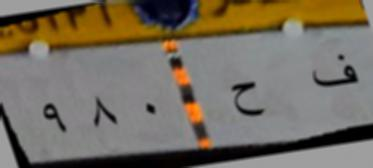0: (142, 97, 164, 120)
7aa: (229, 76, 266, 123)
8: (88, 90, 120, 138)
9: (42, 98, 69, 142)
faa: (310, 52, 359, 90)
